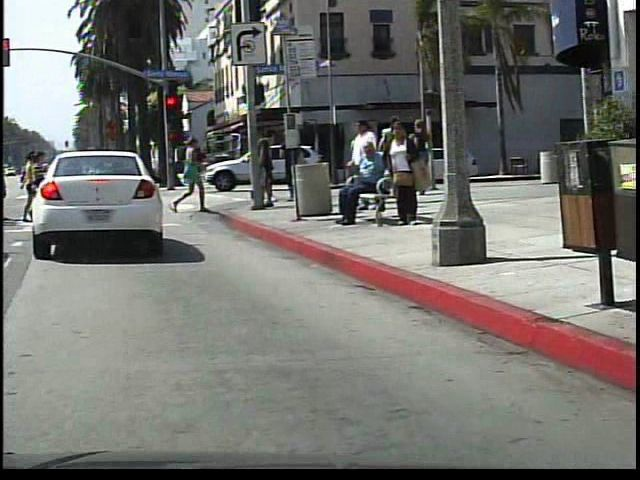person: (341, 145, 396, 225), (388, 120, 425, 232), (176, 129, 221, 219)
